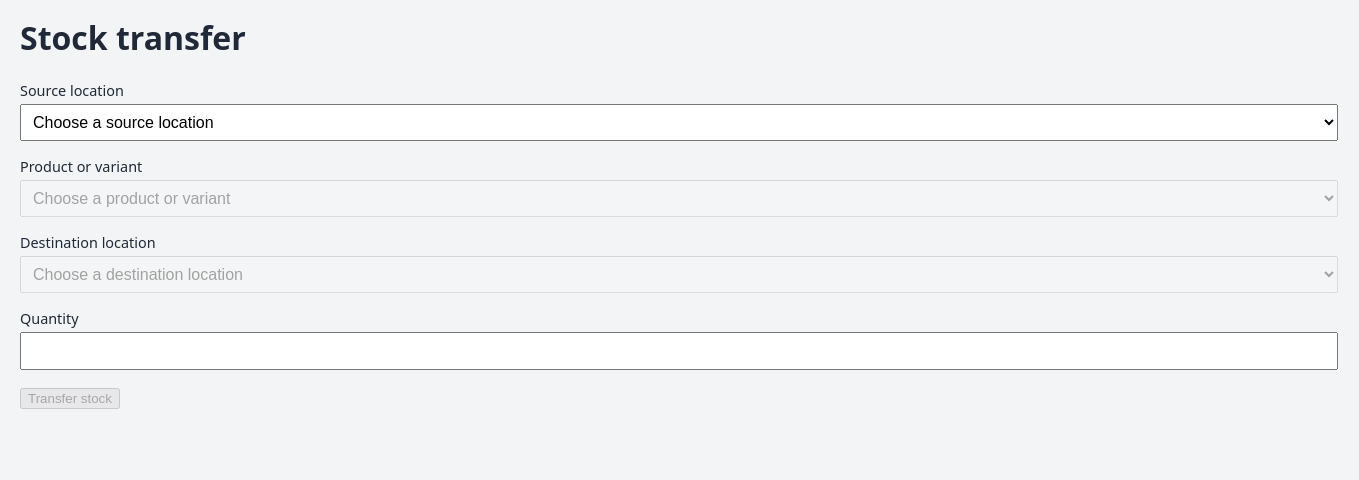
Test: shows a readable API error when the transfer is rejected
Expected: the heading "Stock transfer" is shown, [20,16,246,59]
Select "Chennai" in the dropdown labelled "Source location". click: {"x": 679, "y": 122}
box: [20,104,1338,141]
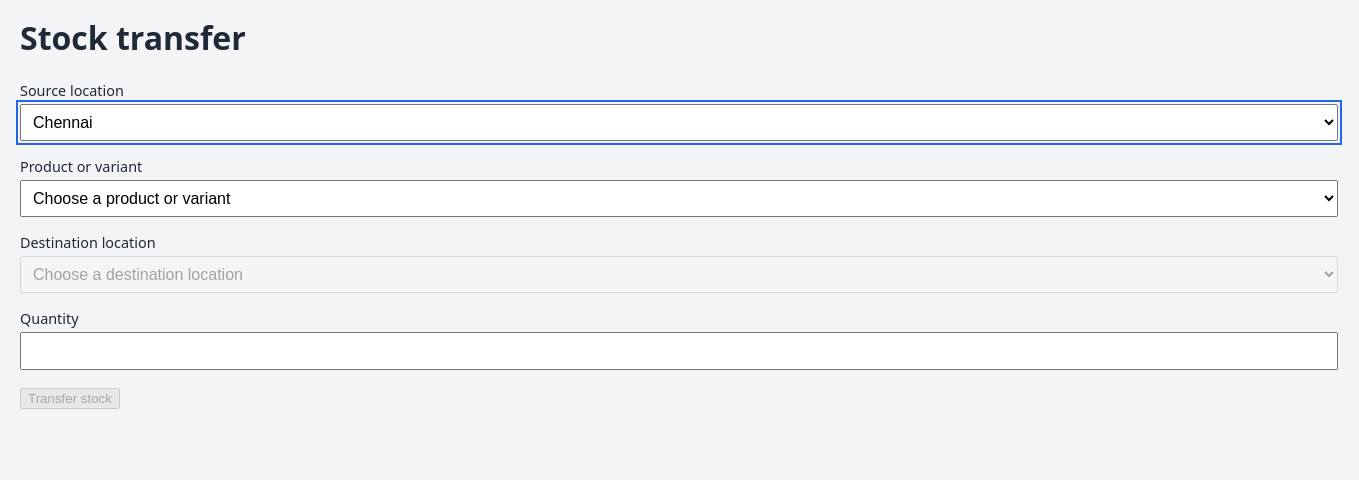
Select "Test Phone (PHONE-1)" in the dropdown labelled "Product or variant". click: {"x": 679, "y": 198}
box: [20,180,1338,217]
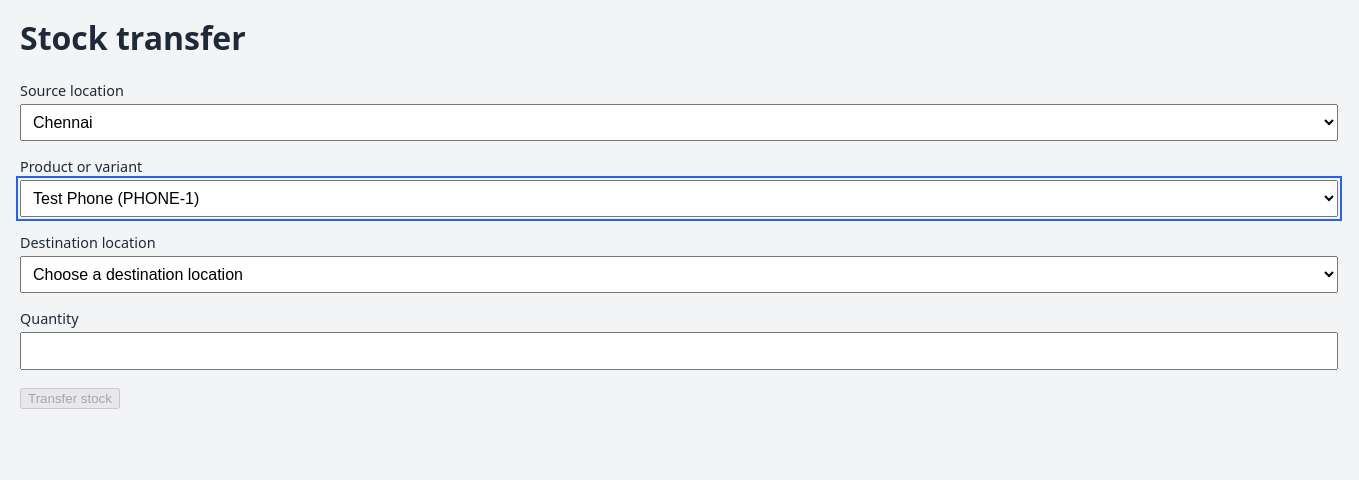
Select "Bengaluru" in the dropdown labelled "Destination location". click: {"x": 679, "y": 274}
box: [20,256,1338,293]
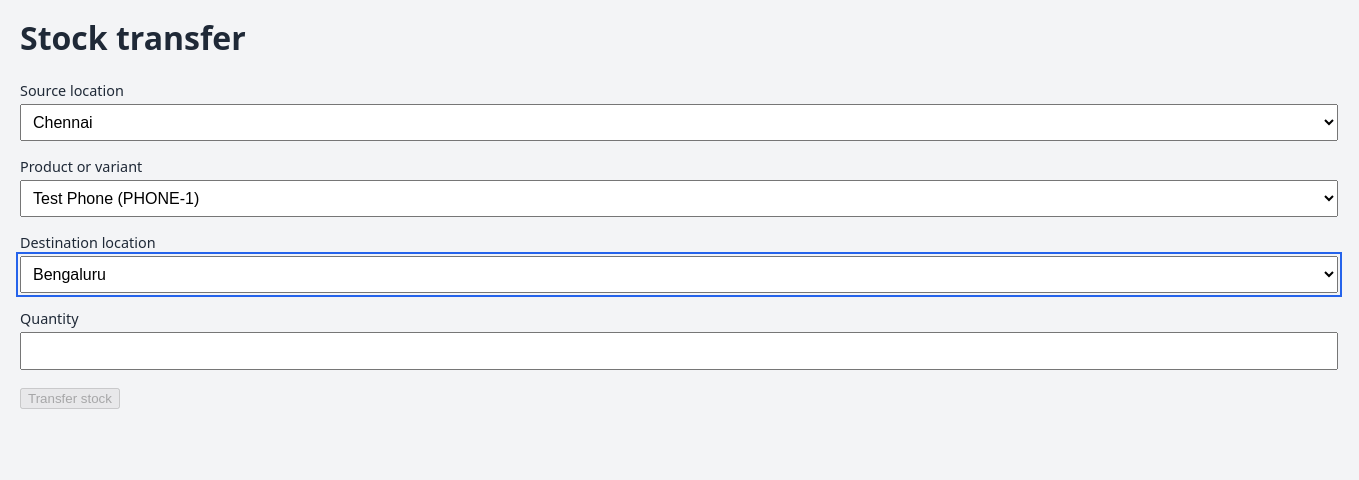
Type "9" into the number field labelled "Quantity". click: {"x": 679, "y": 351}
box: [20,332,1338,370]
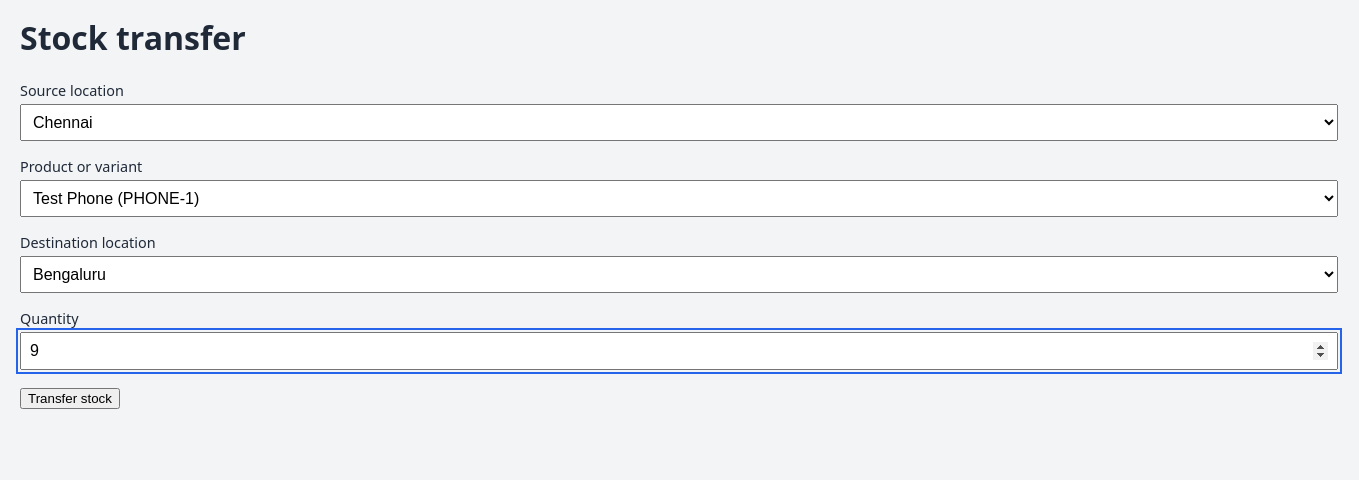
Click the button "Transfer stock". click: {"x": 70, "y": 398}
box: [20,388,120,409]
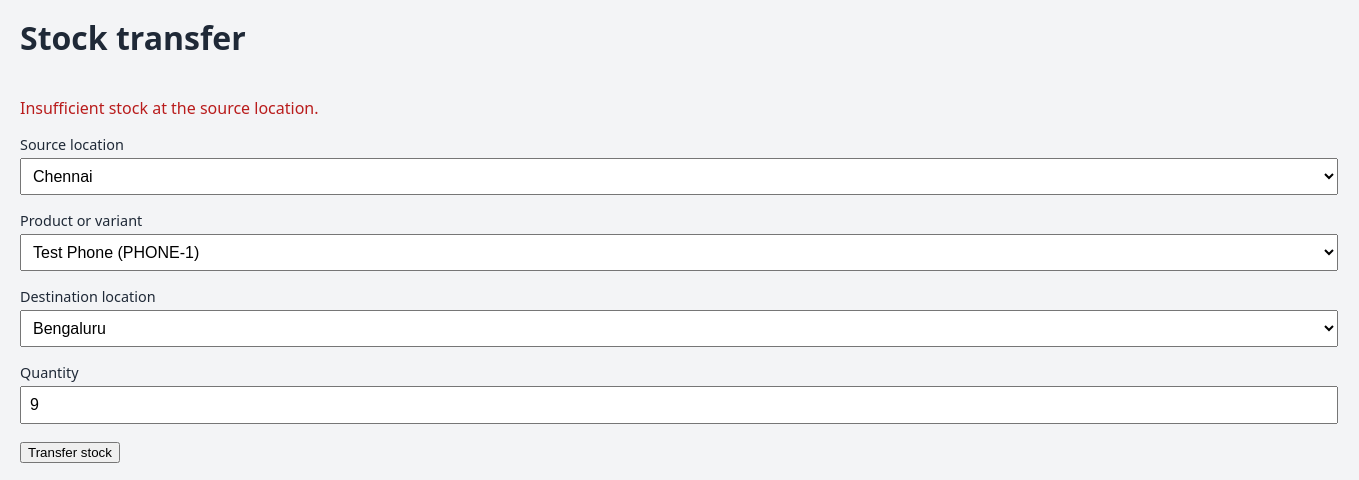
Result: the message reads "Insufficient stock at the source location." at [20,97,318,119]
